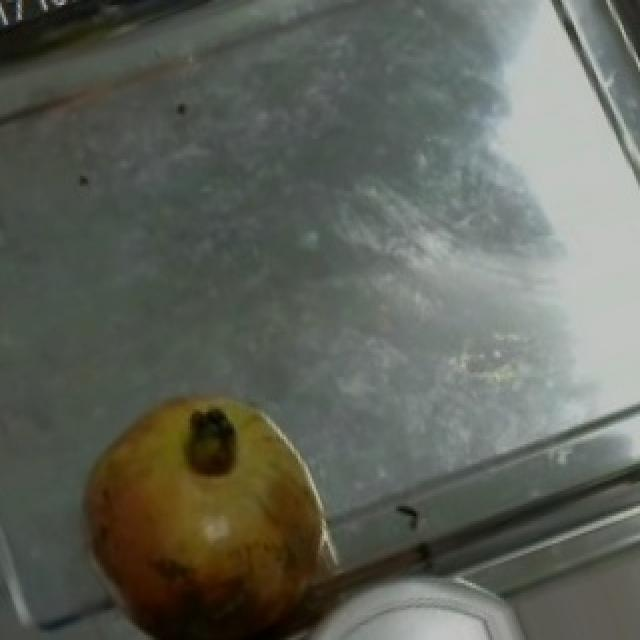fruit: (52, 370, 350, 638)
